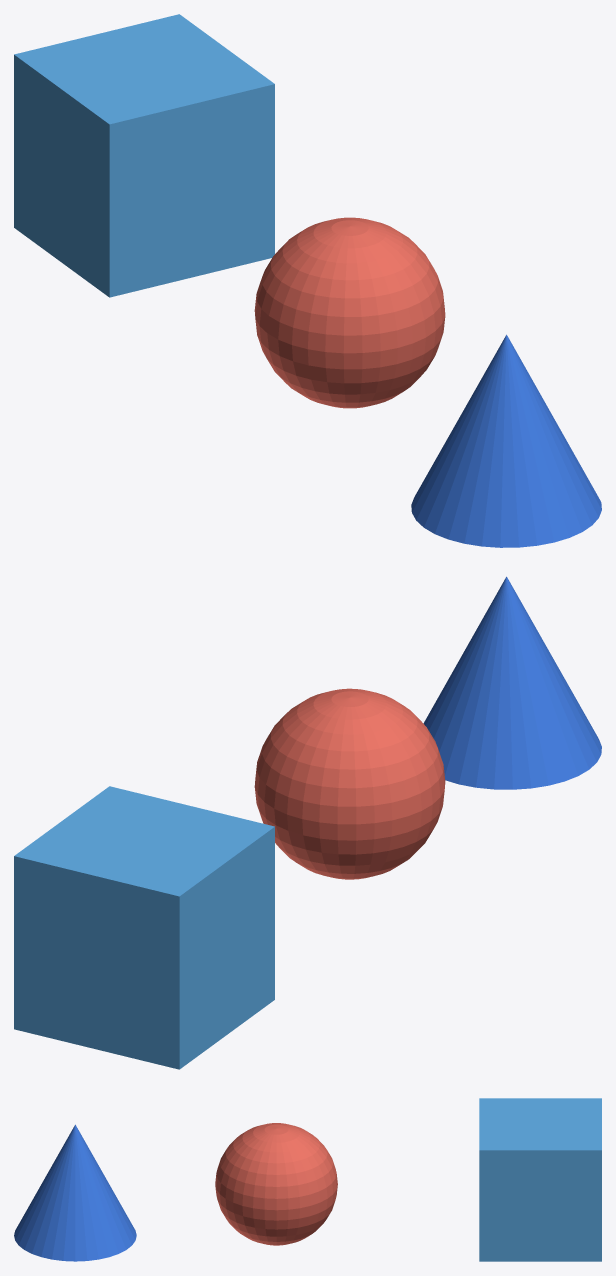
3 views of the same model, one above another, from view 1: azimuth 30°, elevation 25°; view 2: azimuth 150°, elevation 25°; view 3: azimuth 270°, elevation 25° (orthographic). The views are drawn at different scales.
Visible parts, largest first — view 1: Cube, Sphere, Cone; view 2: Cube, Sphere, Cone; view 3: Cube, Sphere, Cone.
Part boxes in pixels (x1,y1,x2,y2): Cube: (14,14,274,297); Sphere: (254,217,445,408); Cone: (411,334,601,547); Cube: (14,786,274,1069); Sphere: (254,688,445,879); Cone: (423,576,601,789); Cube: (479,1098,601,1261); Sphere: (215,1123,337,1245); Cone: (14,1124,136,1261).
Size of the model in its own units: 200 by 208 by 958.
